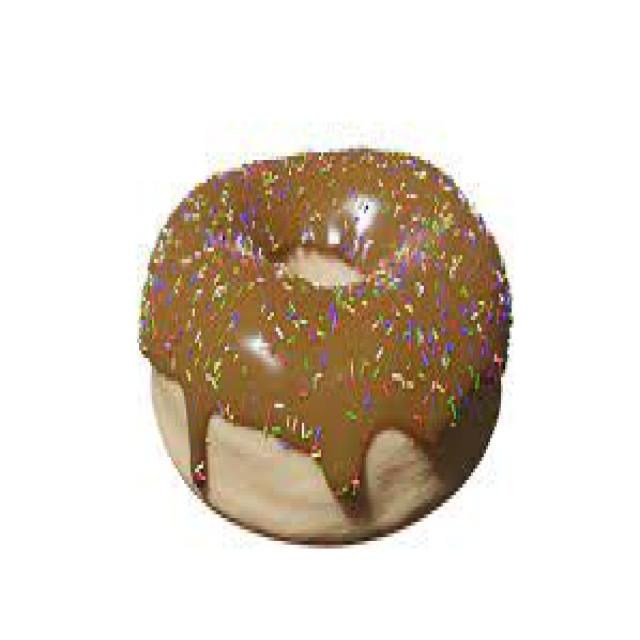Donut: (144, 186, 500, 509)
